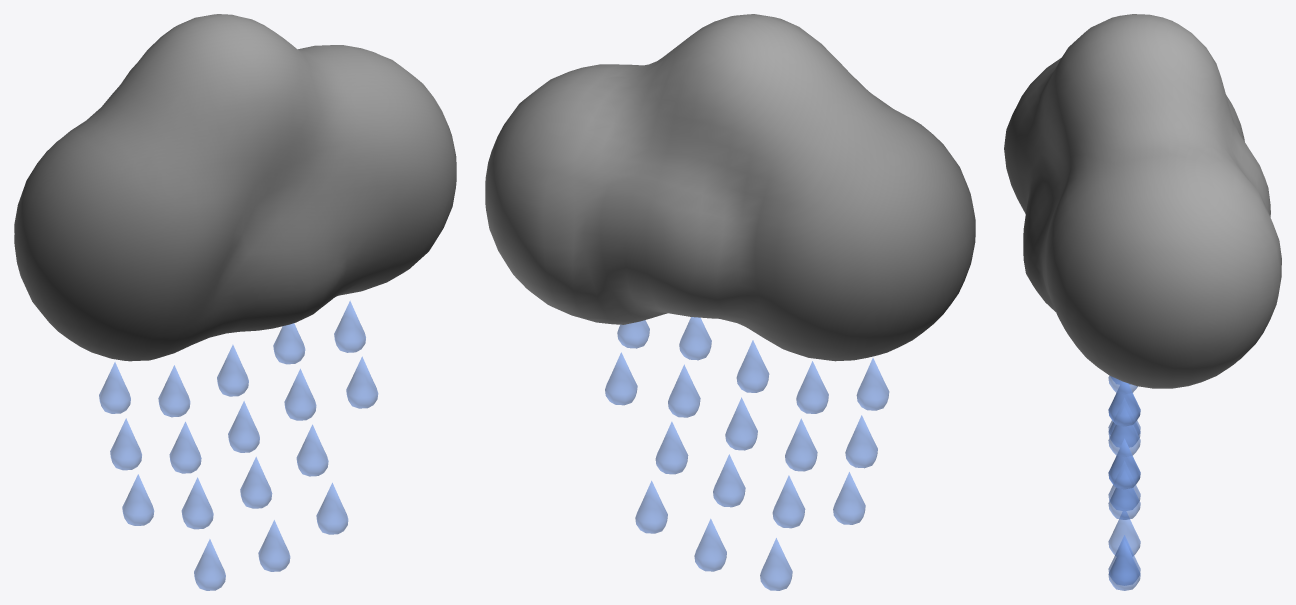
File: 61_HujanSedang.fbx
3 renders of one model, left to right at view 1: azimuth 30°, elevation 25°; view 2: azimuth 150°, elevation 25°; view 3: azimuth 270°, elevation 25°, orthographic. The views are drawn at different scales.
Visible parts, largest first — view 1: HujanSedang; view 2: HujanSedang; view 3: HujanSedang.
Boxes of the visible parts, box(x1,y1,x2,y2) form: HujanSedang: box(14, 14, 456, 590); HujanSedang: box(485, 14, 975, 590); HujanSedang: box(1004, 14, 1281, 590).
Bounding box in the file's own units: 478 × 594 × 275.
